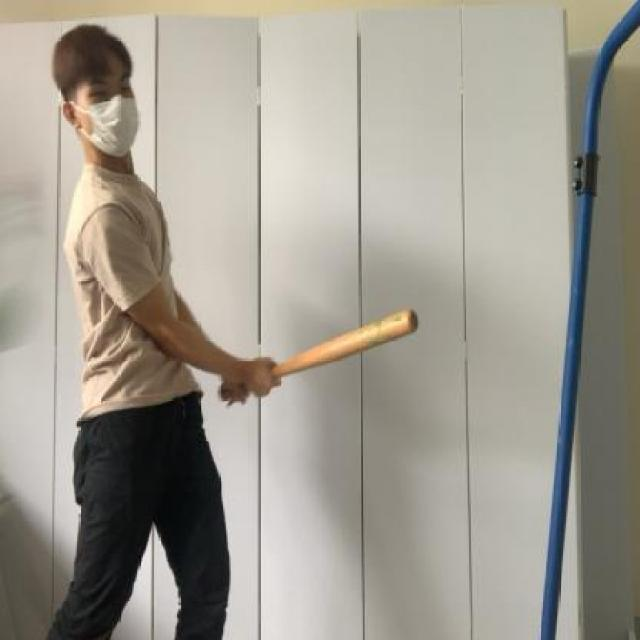baseball: (0, 274, 45, 341)
